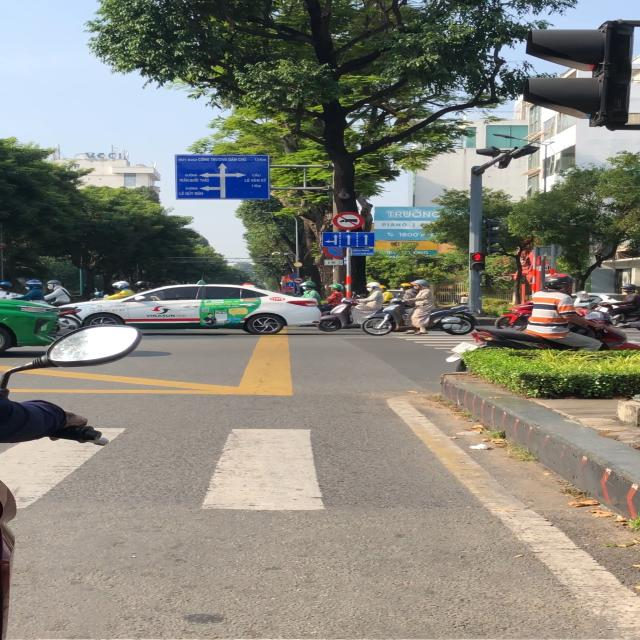Bien bao cam xe so-mi ro-mooc: (332, 212, 369, 232), (291, 276, 306, 285)
